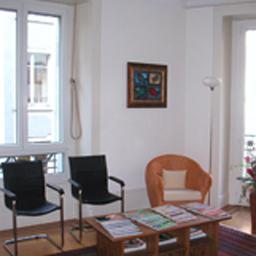Puerta: (234, 22, 253, 205)
Ventana: (1, 1, 71, 149)
